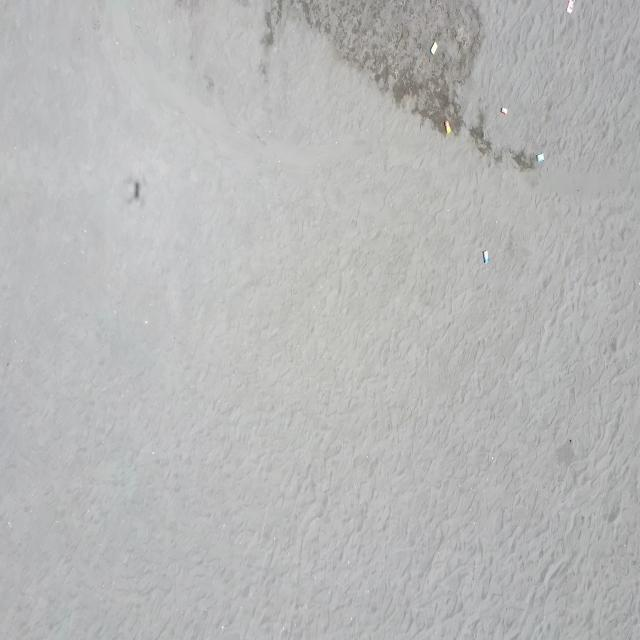retort-pouch: (482, 247, 490, 266), (430, 40, 438, 56), (566, 0, 574, 15), (444, 119, 451, 135), (500, 106, 509, 117), (537, 151, 544, 163)
